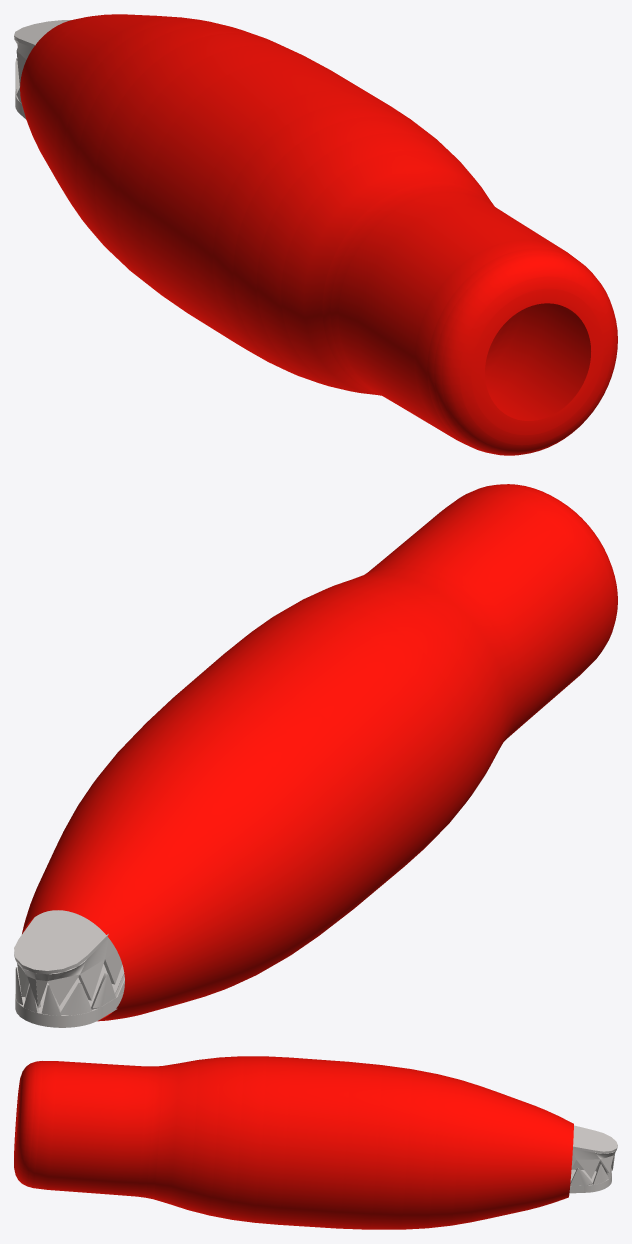
Rendered from TIP_ERed.fbx.
3 renders of one model, top to bottom at view 1: azimuth 30°, elevation 25°; view 2: azimuth 150°, elevation 25°; view 3: azimuth 270°, elevation 25°, orthographic. The views are drawn at different scales.
Visible parts, largest first — view 1: TIP_End_Cap, TIP_End_Top; view 2: TIP_End_Cap, TIP_End_Top, TIP_End_Bottom; view 3: TIP_End_Cap, TIP_End_Top, TIP_End_Bottom.
Part boxes in pixels (x1,y1,x2,y2): TIP_End_Cap: (20, 14, 617, 455); TIP_End_Top: (14, 20, 71, 86); TIP_End_Cap: (22, 484, 617, 1021); TIP_End_Top: (14, 910, 122, 1008); TIP_End_Bottom: (15, 964, 124, 1027); TIP_End_Cap: (14, 1056, 573, 1229); TIP_End_Top: (571, 1125, 617, 1178); TIP_End_Bottom: (569, 1160, 611, 1193).
Size of the model in its own units: 3346 by 3516 by 12161.
